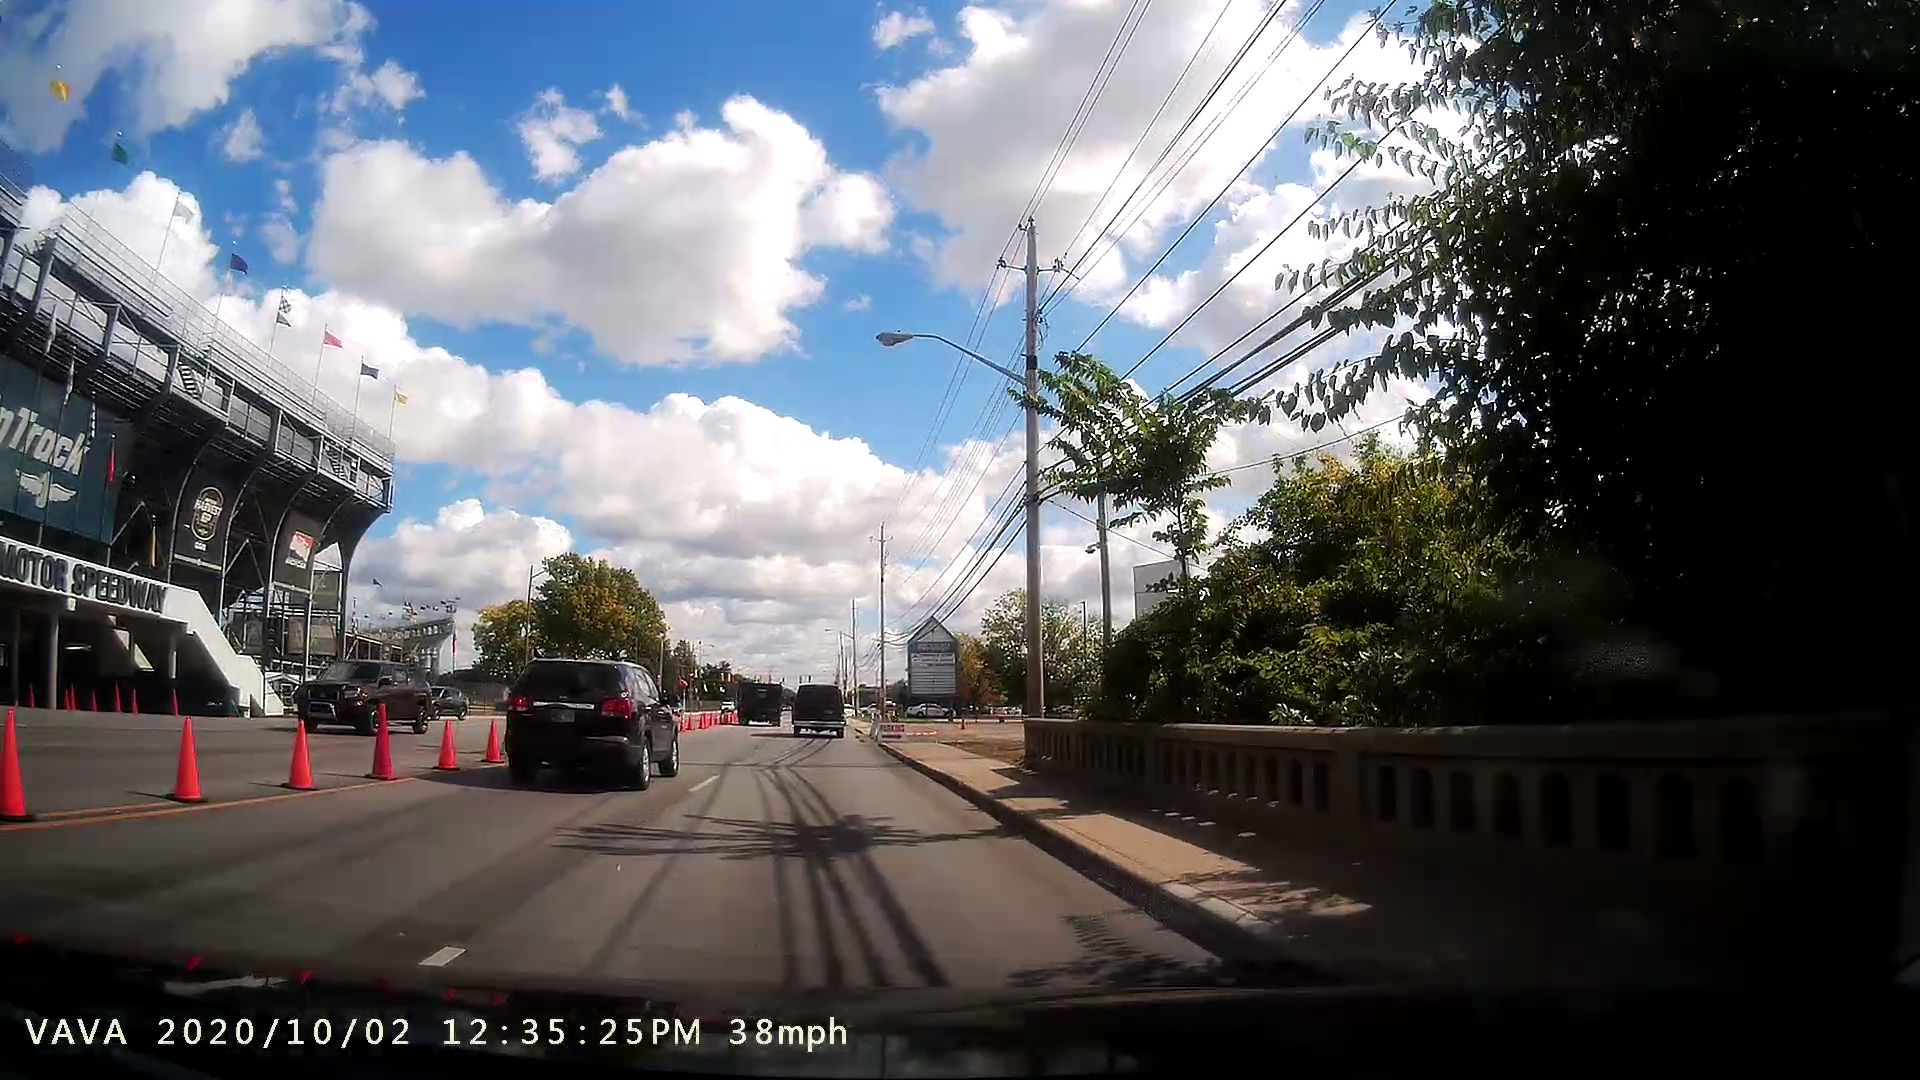const_cone: (149, 709, 218, 810), (269, 705, 330, 793), (363, 694, 407, 783), (430, 709, 465, 779), (481, 696, 506, 765)
